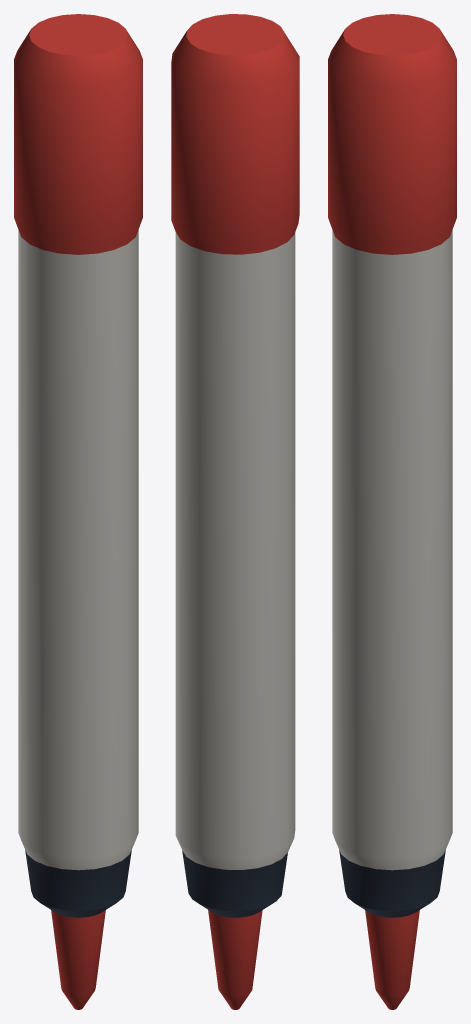
Rendered from stift.glb.
3 views of the same model, side by side, from view 1: azimuth 90°, elevation 25°; view 2: azimuth 150°, elevation 25°; view 3: azimuth 270°, elevation 25° (orthographic).
Parts seen in each view (by area): view 1: Stift; view 2: Stift; view 3: Stift.
Part boxes in pixels (<box>): Stift: <box>14,14,142,1009</box>; Stift: <box>171,14,299,1009</box>; Stift: <box>328,14,456,1009</box>.
Bounding box in the file's own units: 0.12 × 1 × 0.12.
